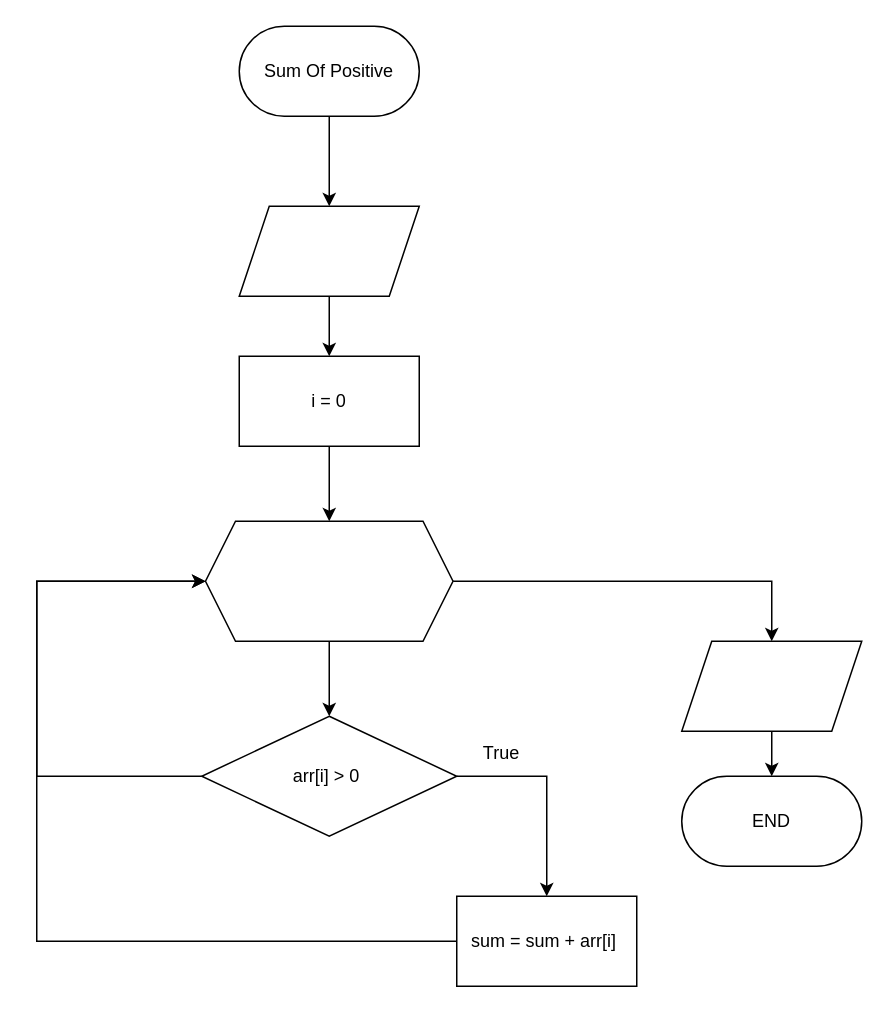
This 888x1013 diagram has some shape labels left out. The shapes that lost their labels are listed below. From the top down, each one's box as (x1, y1, x2, y2) in pixels, then its label:
(238, 205, 419, 296): arr, size
(204, 520, 453, 641): repeat size times
(680, 640, 862, 731): sum
